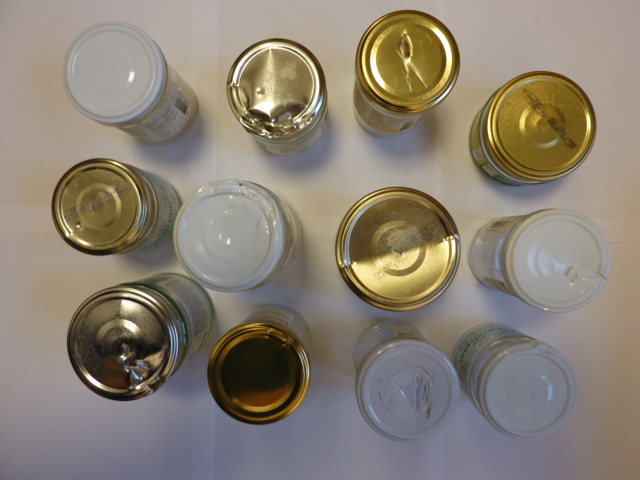damaged: (172, 180, 283, 290), (505, 207, 613, 312)
